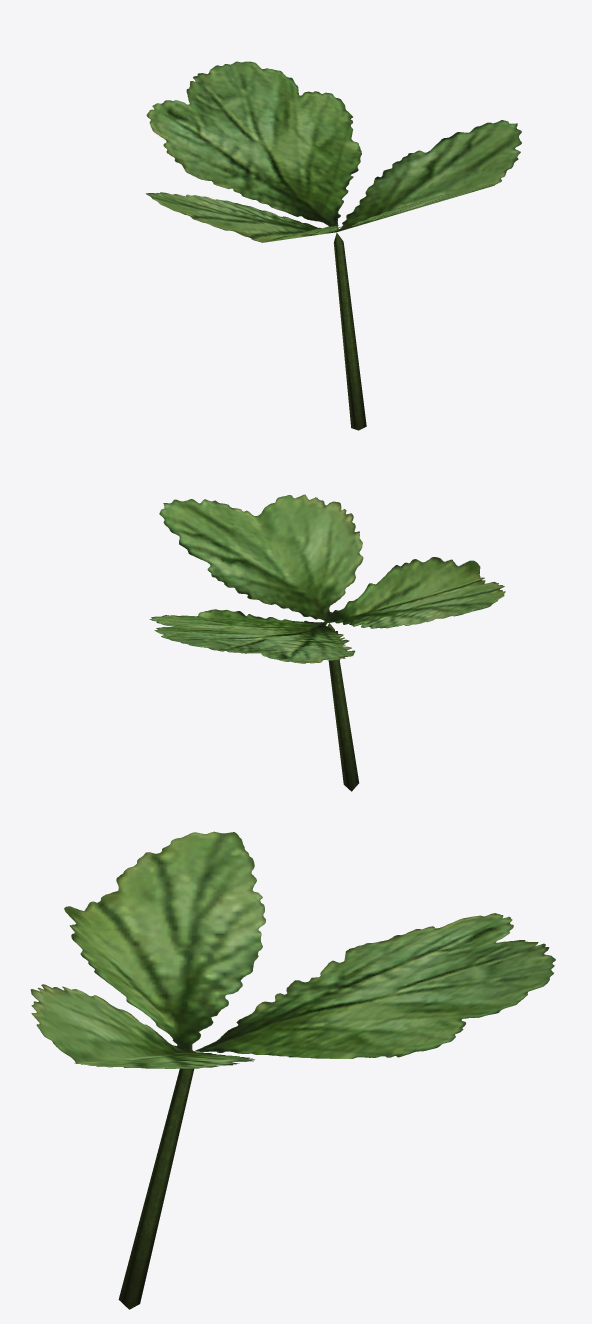
File: MK4_Trop_Plant6.DAE
The picture shows the model from 3 angles, top to bottom: view 1: azimuth 30°, elevation 25°; view 2: azimuth 150°, elevation 25°; view 3: azimuth 270°, elevation 25°; orthographic projection. The views are drawn at different scales.
Visible parts, largest first — view 1: MK4_Trop_Plant6; view 2: MK4_Trop_Plant6; view 3: MK4_Trop_Plant6.
Part boxes in pixels (<box>): MK4_Trop_Plant6: <box>146,61,521,430</box>; MK4_Trop_Plant6: <box>149,494,505,791</box>; MK4_Trop_Plant6: <box>30,831,555,1309</box>.
Bounding box in the file's own units: 0.4859 × 0.4642 × 0.3263.
